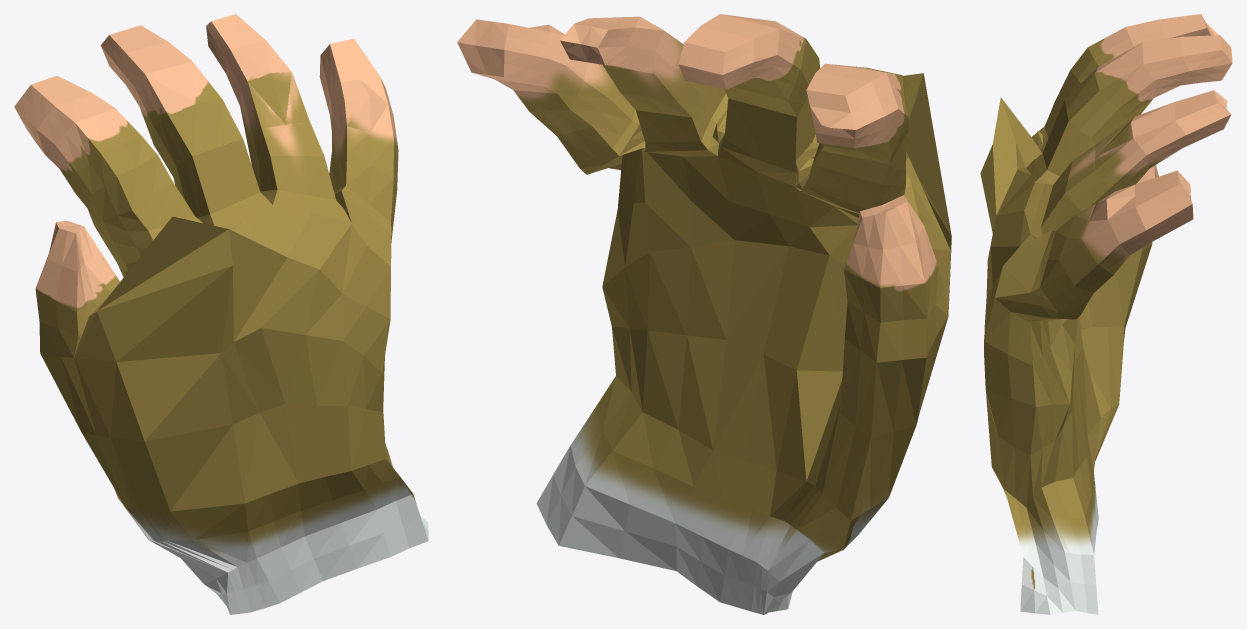
The model's file is grip0029.obj.
3 renders of one model, left to right at view 1: azimuth 30°, elevation 25°; view 2: azimuth 150°, elevation 25°; view 3: azimuth 270°, elevation 25°, orthographic. The views are drawn at different scales.
Visible parts, largest first — view 1: Hand; view 2: Hand; view 3: Hand.
Boxes of the visible parts, <box> form: Hand: <box>14,14,428,614</box>; Hand: <box>457,14,951,614</box>; Hand: <box>980,14,1232,614</box>.
Size of the model in its own units: 2.94 by 4.15 by 1.84.
